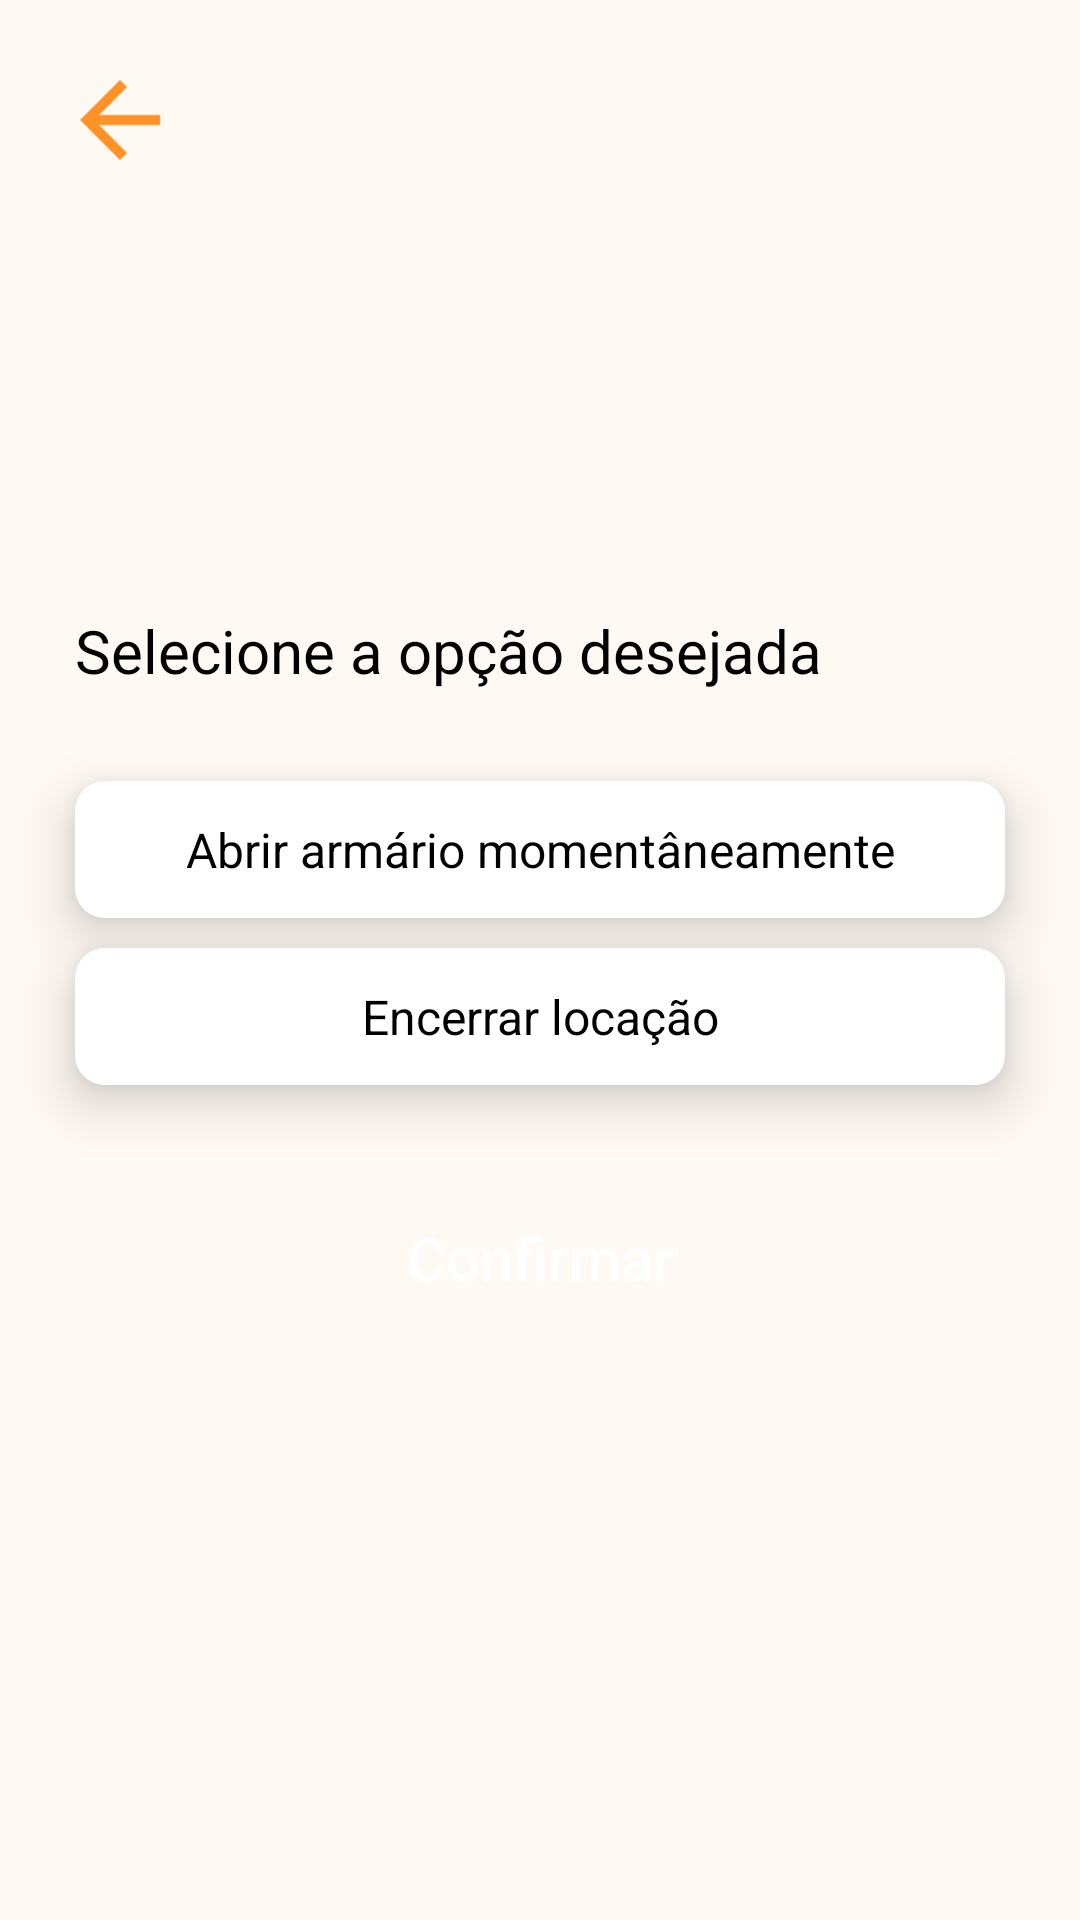

Locate icon controls on the screen. Image size 1080px x 1920px, boxes as (x1, y1, x2, y2).
arrow back: (80, 80, 161, 160)
